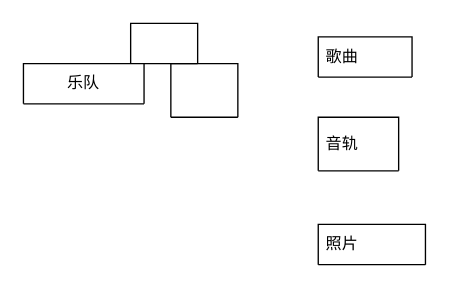
Image size: 449x288. Some labels were removed from this diagram. The centre of each missing label's shape, as x and y in pixels:
歌手: [204,89]
艺术家: [163,43]
